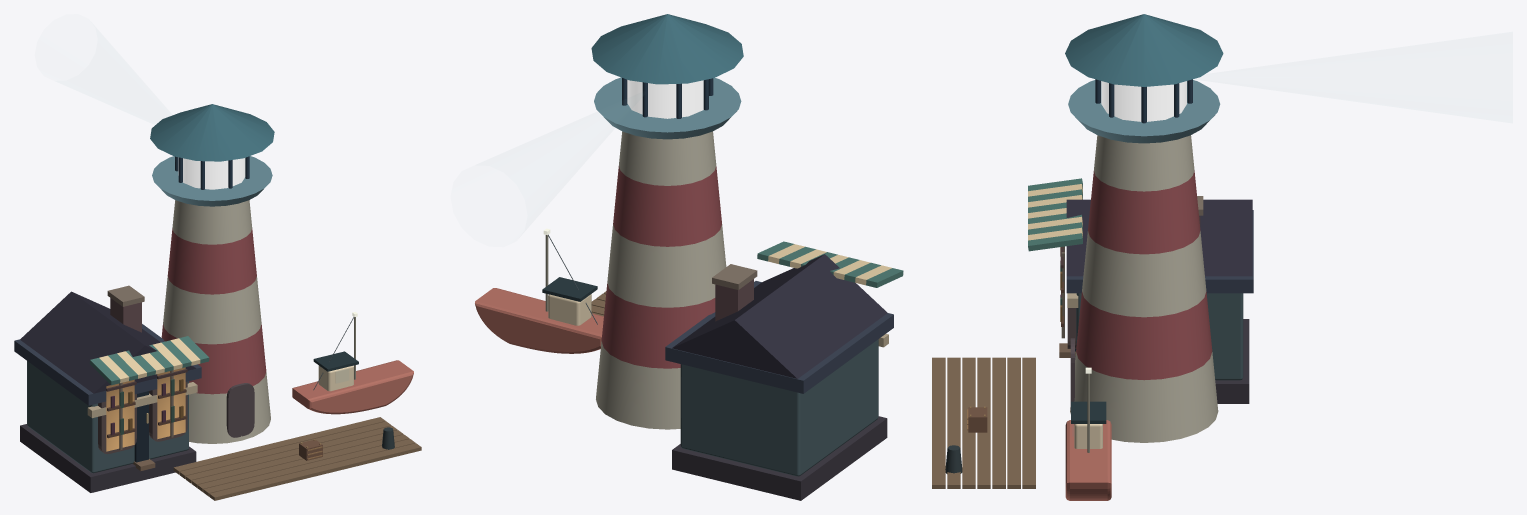
The model's file is harbour-map.glb.
3 views of the same model, side by side, from view 1: azimuth 30°, elevation 25°; view 2: azimuth 150°, elevation 25°; view 3: azimuth 270°, elevation 25° (orthographic). The views are drawn at different scales.
Visible parts, largest first — view 1: place-static, lighthouse, fishing-boat, large-place-glows; view 2: place-static, lighthouse, fishing-boat; view 3: lighthouse, place-static, fishing-boat.
Part boxes in pixels (<box>): place-static: <box>14,285,421,500</box>; lighthouse: <box>150,104,274,443</box>; fishing-boat: <box>292,311,413,414</box>; large-place-glows: <box>106,367,185,451</box>; place-static: <box>591,241,903,500</box>; lighthouse: <box>591,14,743,429</box>; fishing-boat: <box>475,228,603,353</box>; lighthouse: <box>1065,14,1223,442</box>; place-static: <box>932,178,1253,488</box>; fishing-boat: <box>1065,367,1111,500</box>.
Size of the model in its own units: 6 by 5.81 by 7.32.
